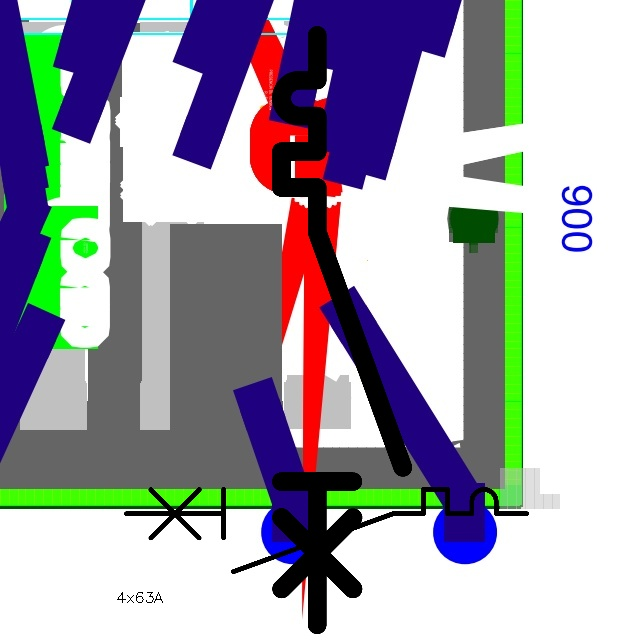interruptor_termomagnetico: (266, 20, 418, 640), (116, 479, 537, 582)
